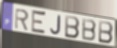B: (98, 20, 114, 46), (64, 15, 80, 41), (82, 17, 98, 42)
E: (30, 9, 47, 37)
J: (50, 15, 62, 36)
R: (14, 8, 30, 32)
